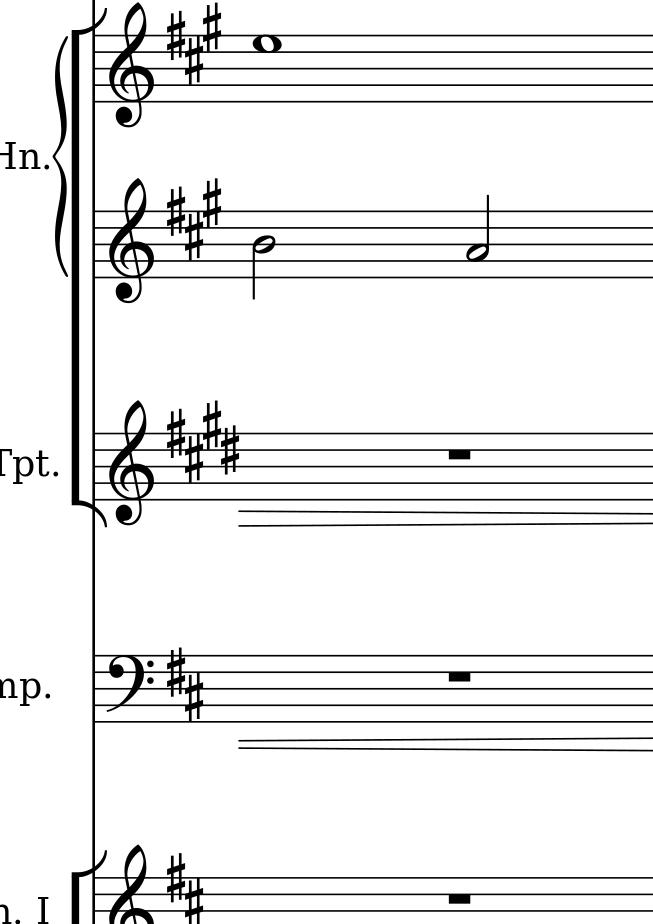2_2: (465, 197, 491, 277)
2_4: (251, 209, 275, 297)
8_7: (251, 32, 283, 104)
A_S: (165, 177, 227, 261), (165, 1, 224, 84)
Brace: (52, 33, 69, 280)
Bracke: (69, 6, 108, 528)
D_S: (167, 643, 204, 721)
E_S: (164, 395, 243, 483)
Fclef: (104, 654, 154, 724)
Gclef: (105, 177, 156, 304), (106, 1, 155, 129), (107, 400, 155, 527)
Rests1: (443, 668, 475, 686), (444, 890, 475, 908), (444, 446, 473, 463)
Single_barline: (87, 656, 102, 722), (87, 433, 101, 503), (88, 213, 102, 278), (89, 36, 101, 102)
